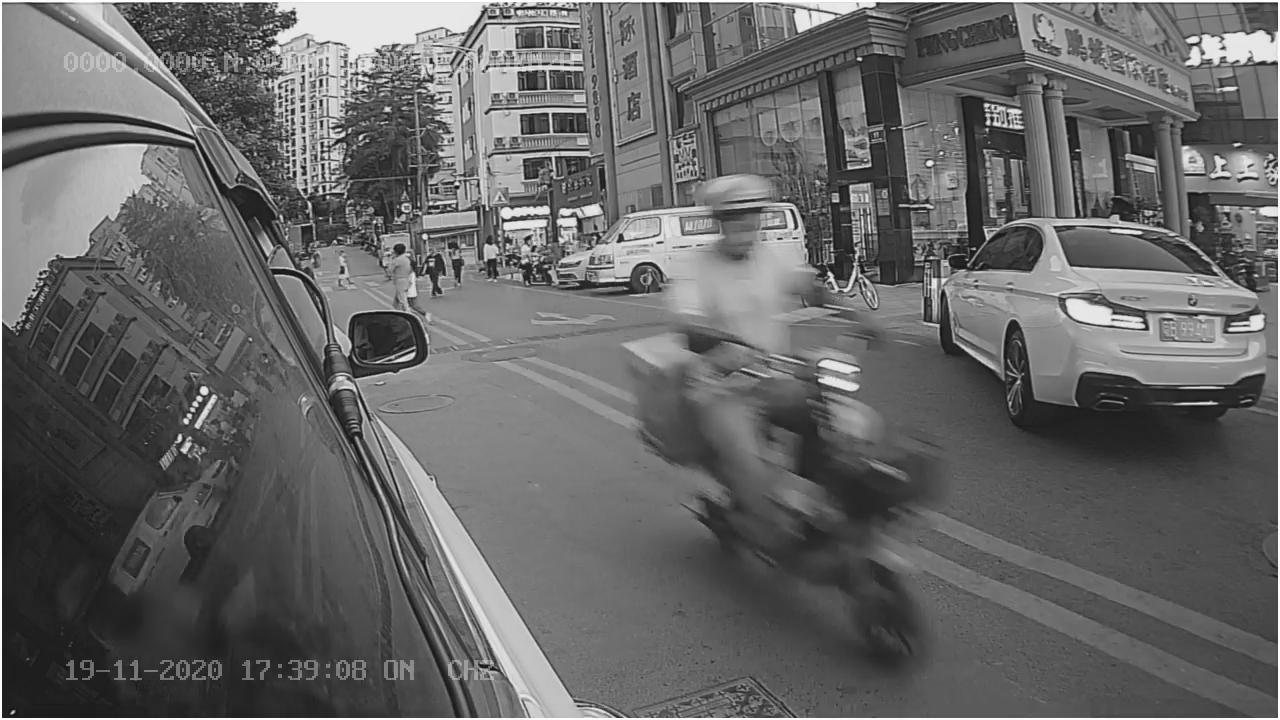person: (661, 184, 824, 378)
